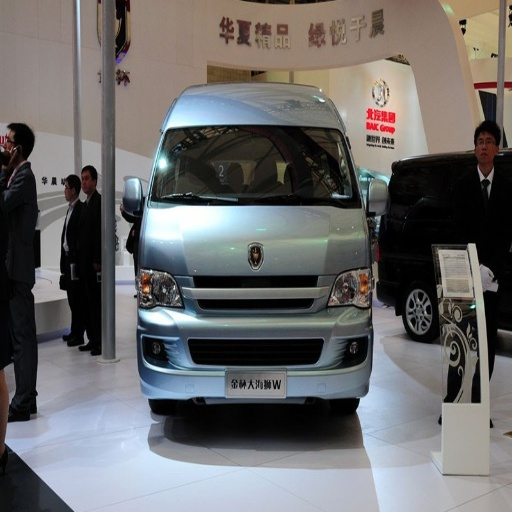front_bumper: (137, 241, 370, 400)
front_right_light: (136, 268, 182, 308)
